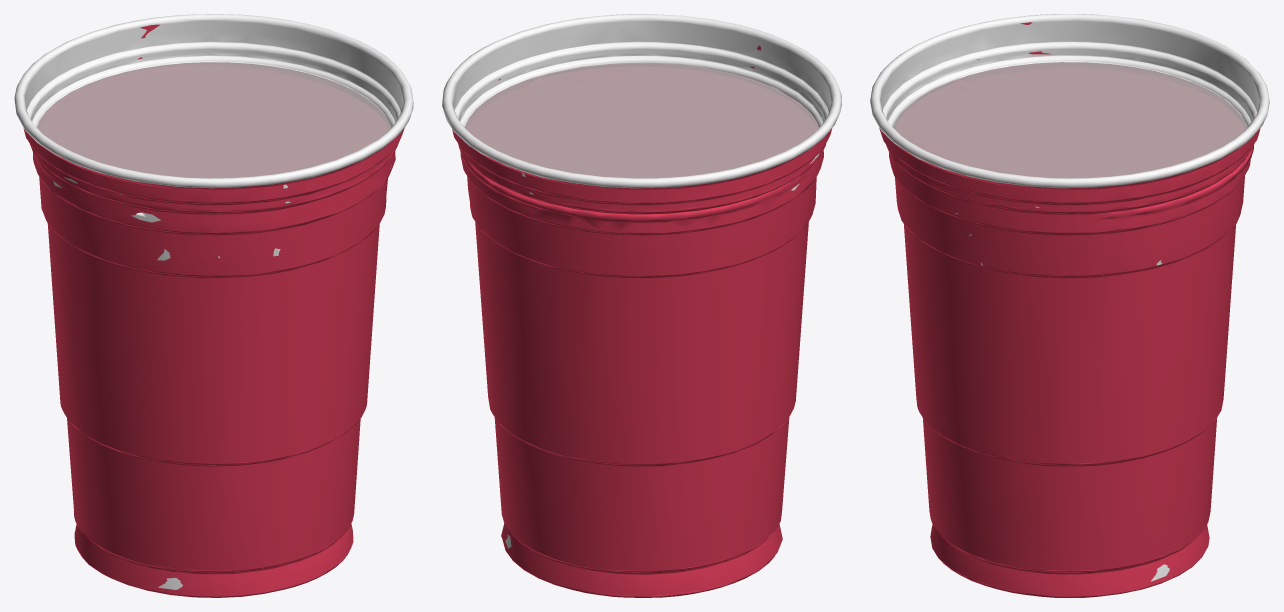
Rendered from SM_RedSoloCup_v4_Lid_Conveyor.FBX.
3 renders of one model, left to right at view 1: azimuth 30°, elevation 25°; view 2: azimuth 150°, elevation 25°; view 3: azimuth 270°, elevation 25°, orthographic.
Visible parts, largest first — view 1: SM_RedSoloCup_v4_Lid_Conveyor; view 2: SM_RedSoloCup_v4_Lid_Conveyor; view 3: SM_RedSoloCup_v4_Lid_Conveyor.
Part boxes in pixels (x1,y1,x2,y2): SM_RedSoloCup_v4_Lid_Conveyor: (14, 14, 413, 597); SM_RedSoloCup_v4_Lid_Conveyor: (442, 14, 841, 597); SM_RedSoloCup_v4_Lid_Conveyor: (870, 14, 1269, 597).
Bounding box in the file's own units: 58.79 × 72.03 × 58.78.
